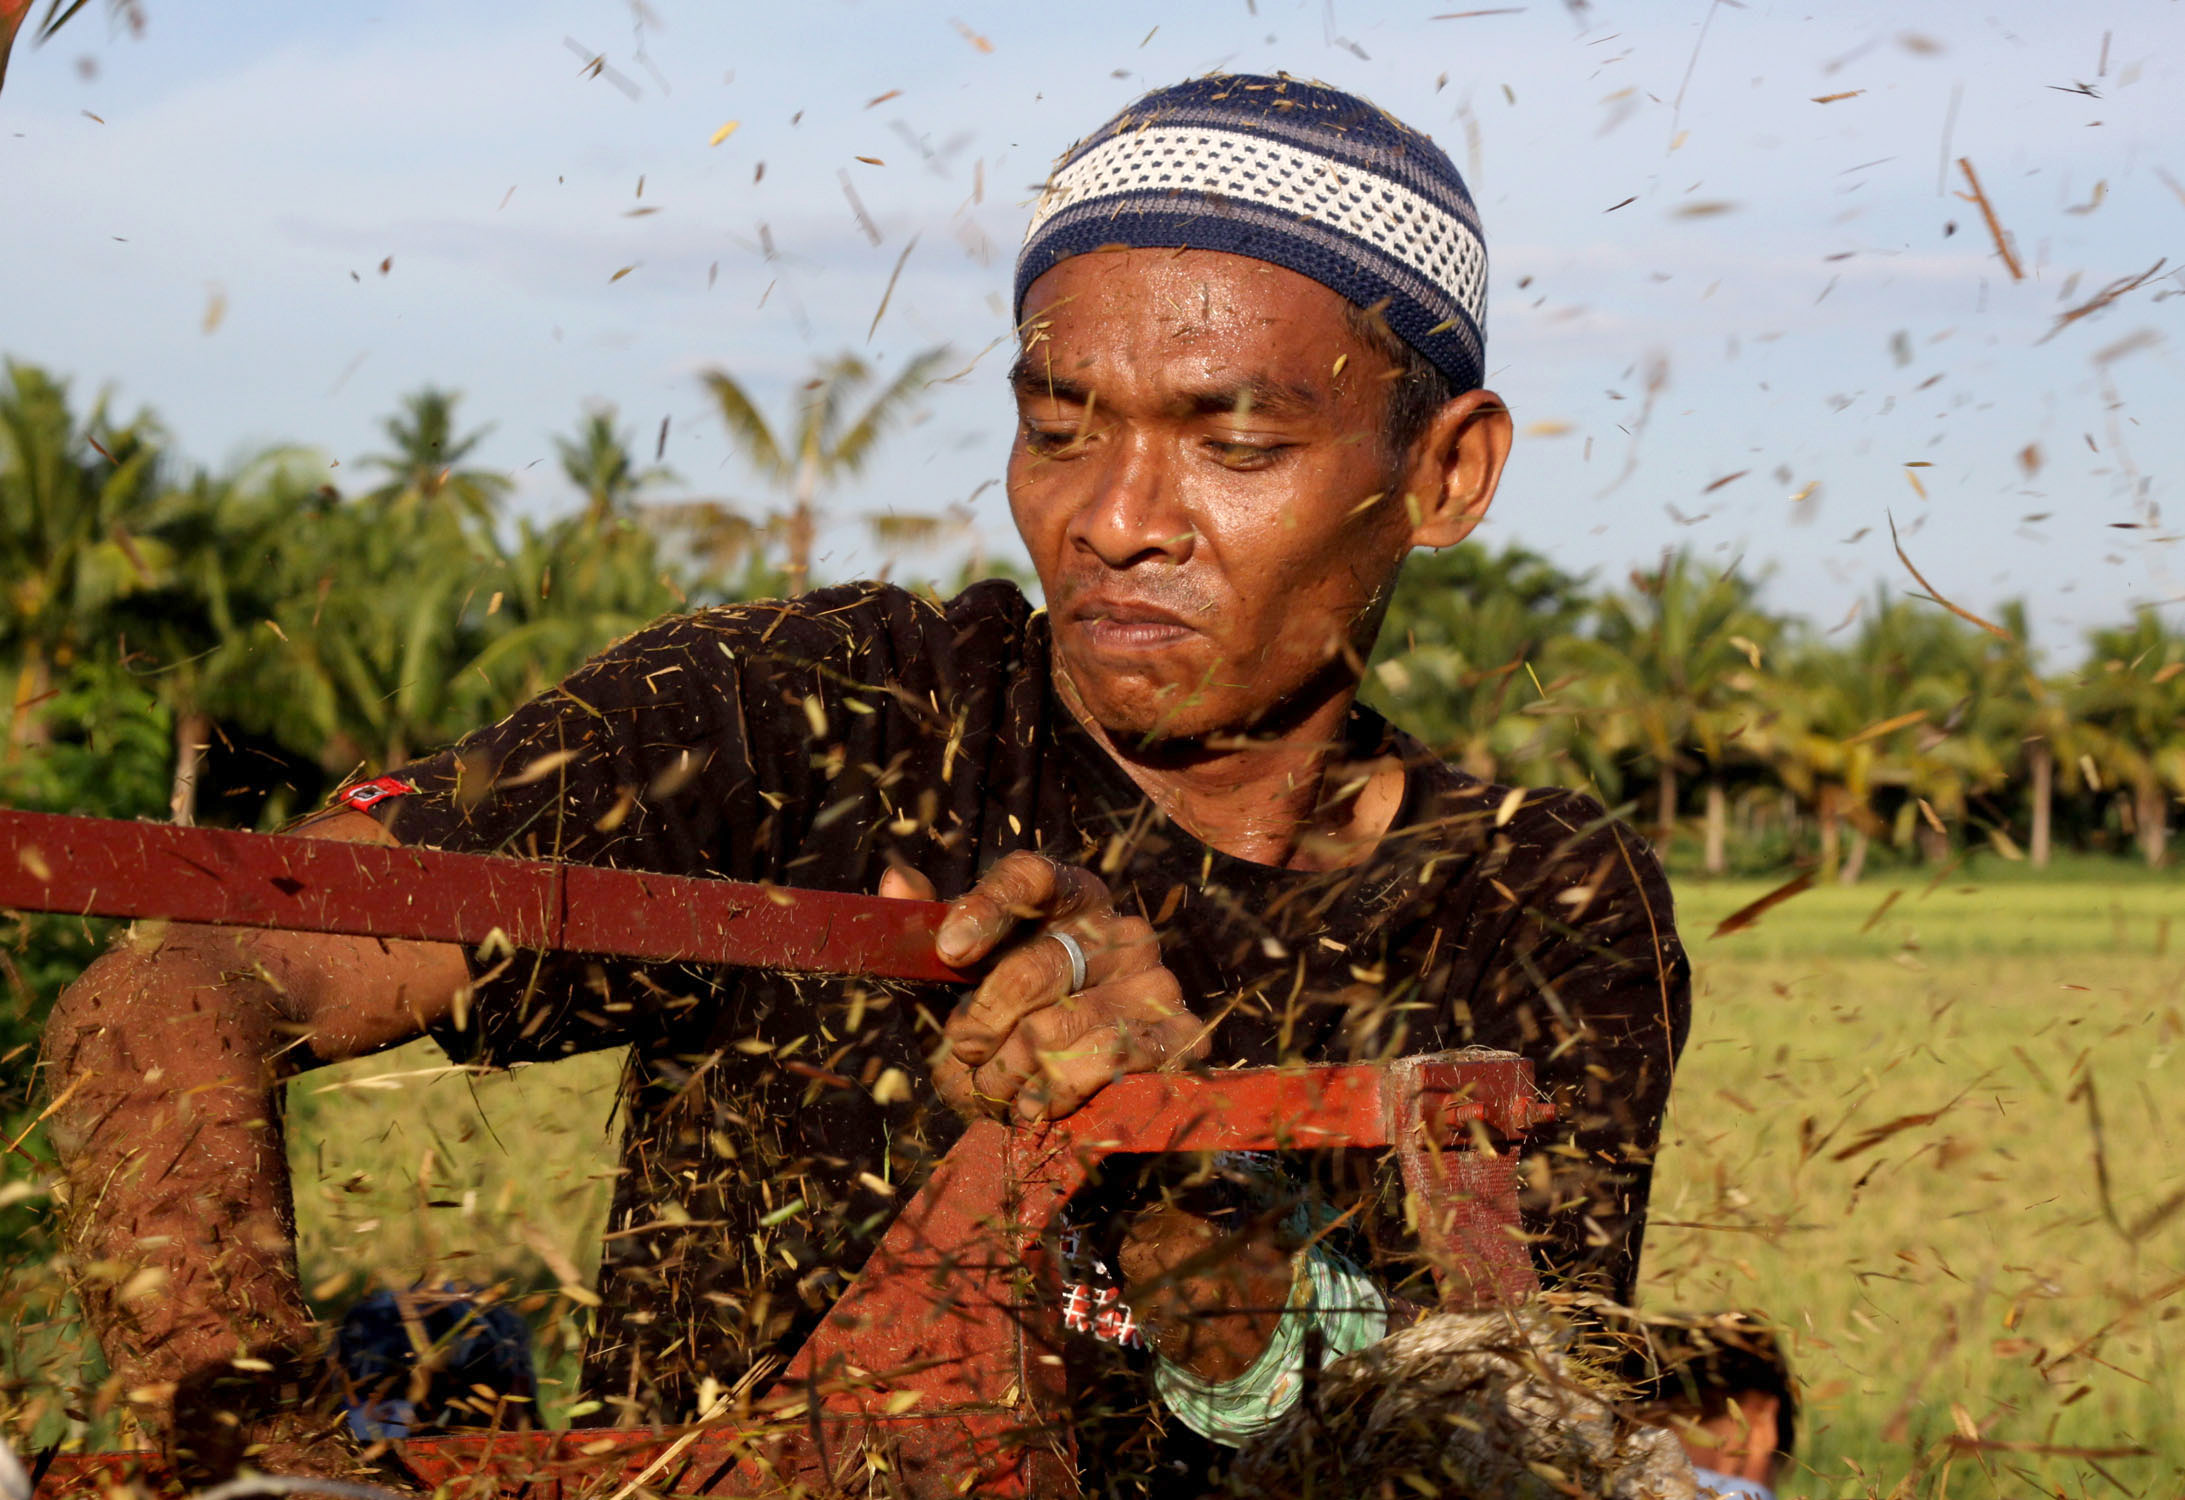human: (32, 55, 1832, 1500)
